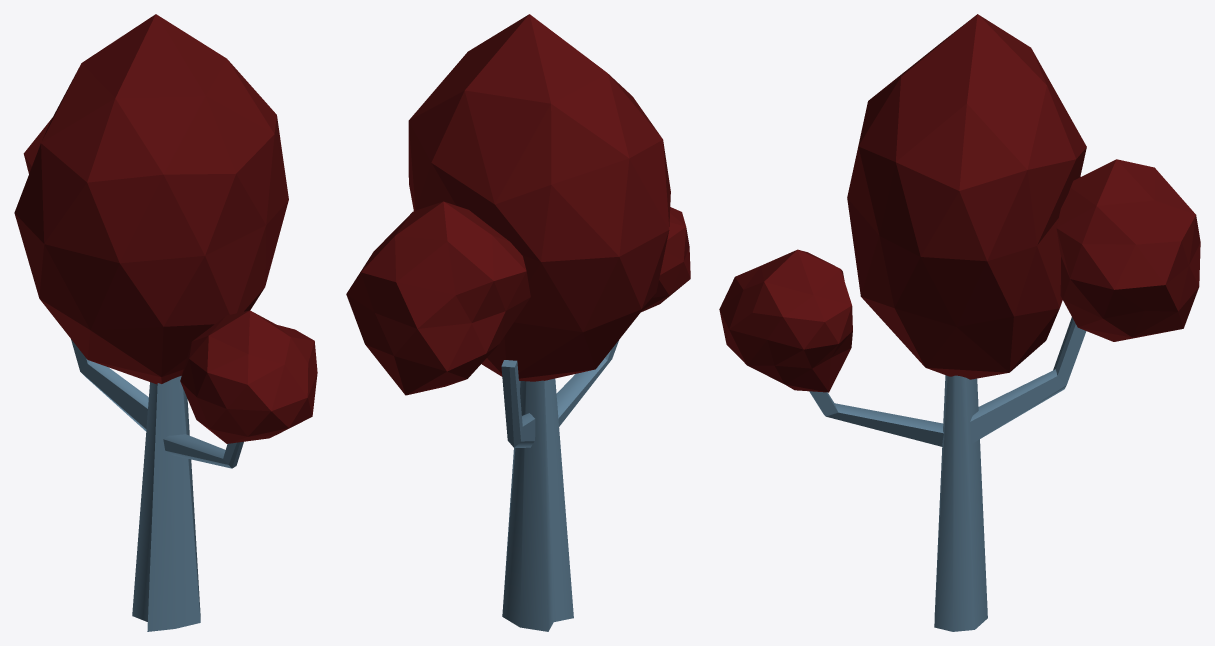
Rendered from tree_03.fbx.
The picture shows the model from 3 angles, left to right: view 1: azimuth 30°, elevation 25°; view 2: azimuth 150°, elevation 25°; view 3: azimuth 270°, elevation 25°; orthographic projection.
Parts seen in each view (by area): view 1: tree_03; view 2: tree_03; view 3: tree_03.
Part boxes in pixels (x1,y1,x2,y2): tree_03: (14,14,317,631); tree_03: (346,14,690,631); tree_03: (719,14,1200,631).
Bounding box in the file's own units: 2.71 × 6.52 × 4.72.
